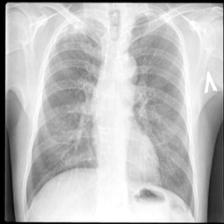tuberculosis: (19, 8, 198, 220)
